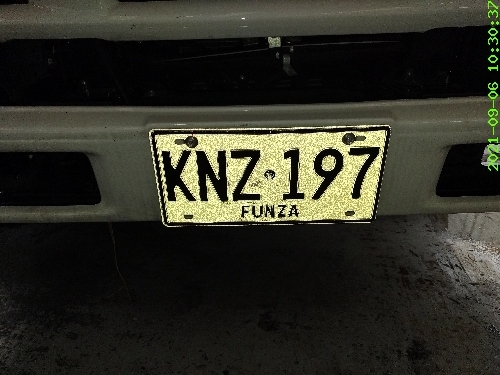number_plate: (158, 132, 383, 224)
